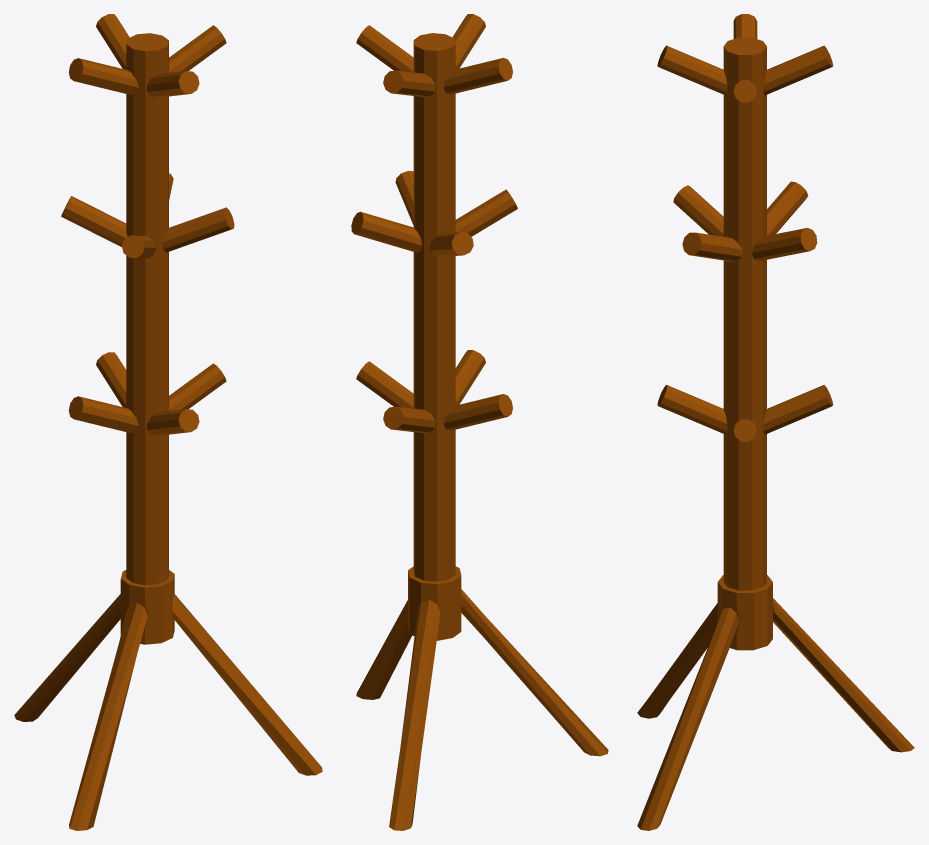
Rendered from gantungan baju_topi.fbx.
3 renders of one model, left to right at view 1: azimuth 30°, elevation 25°; view 2: azimuth 150°, elevation 25°; view 3: azimuth 270°, elevation 25°, orthographic.
Visible parts, largest first — view 1: Cylinder; view 2: Cylinder; view 3: Cylinder.
Boxes of the visible parts, box(x1,y1,x2,y2) form: Cylinder: box(14, 14, 322, 830); Cylinder: box(351, 14, 608, 830); Cylinder: box(637, 14, 914, 830).
Bounding box in the file's own units: 74.21 × 203 × 70.48.
